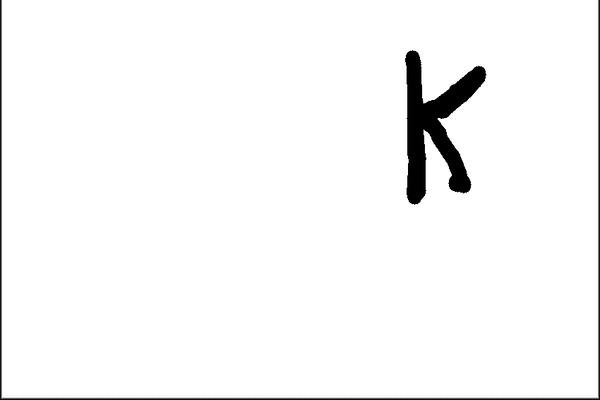K: (396, 41, 490, 215)
